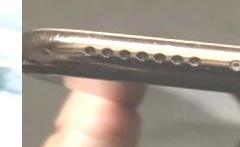scratch: (23, 26, 240, 112)
